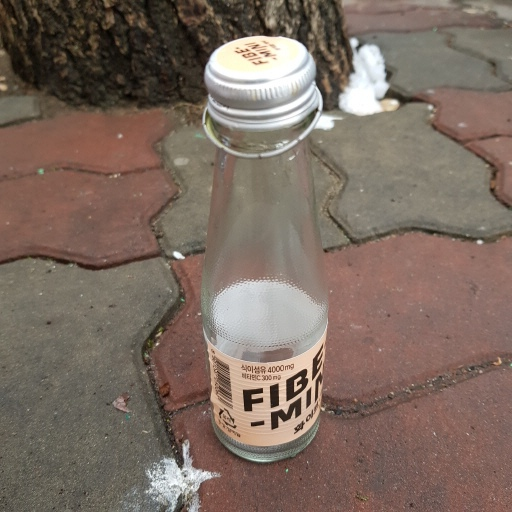Glass_4: (190, 34, 338, 463)
